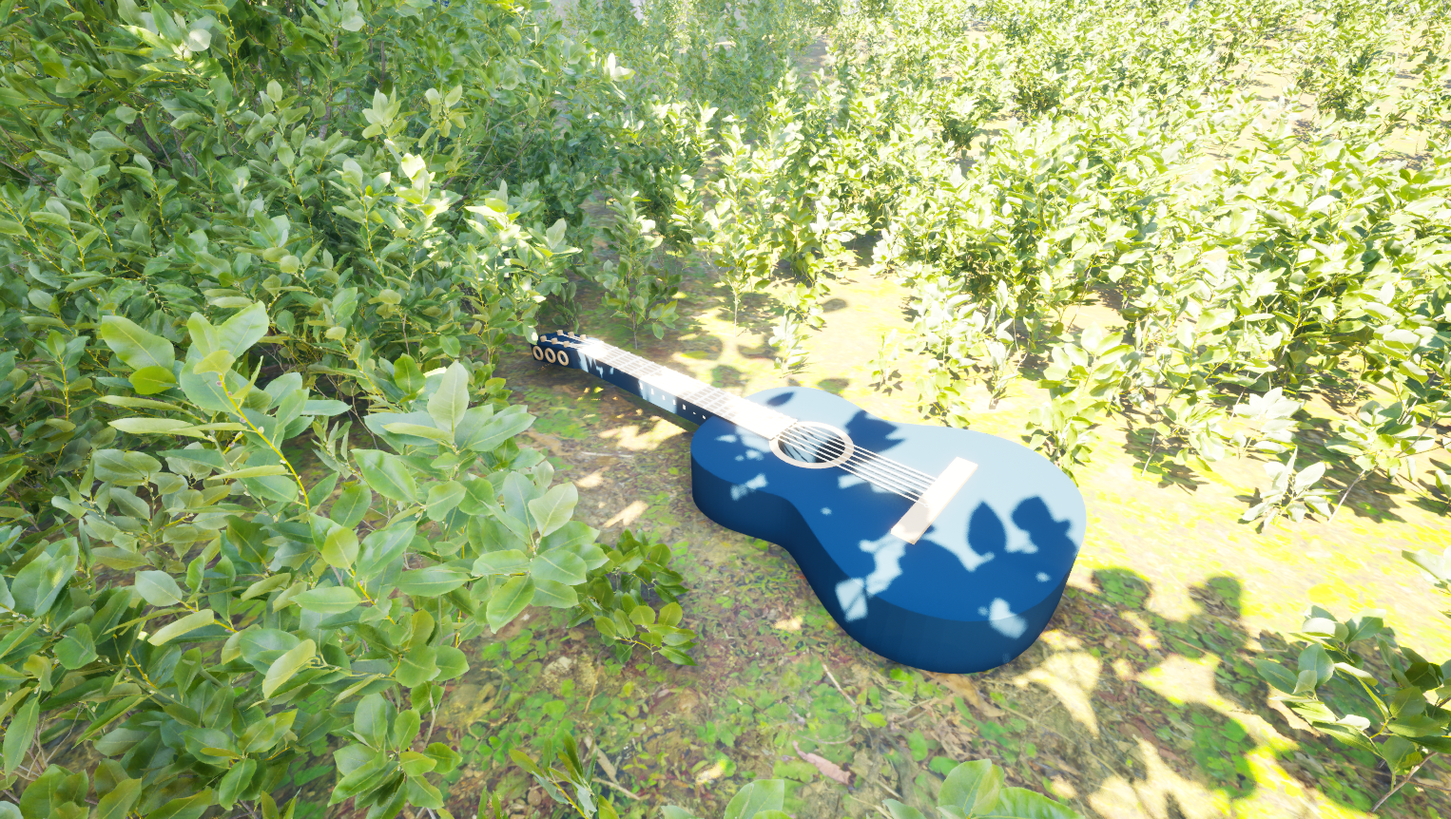Guitar: (445, 298, 1117, 729)
